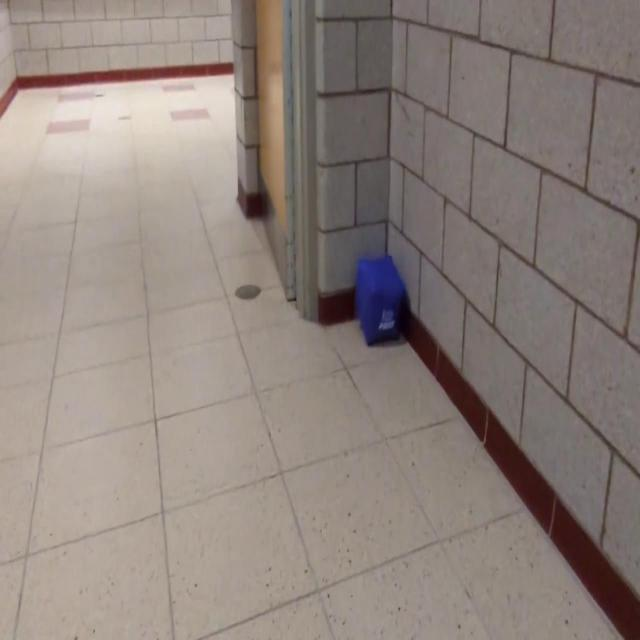frc_cube: (356, 255, 406, 350)
